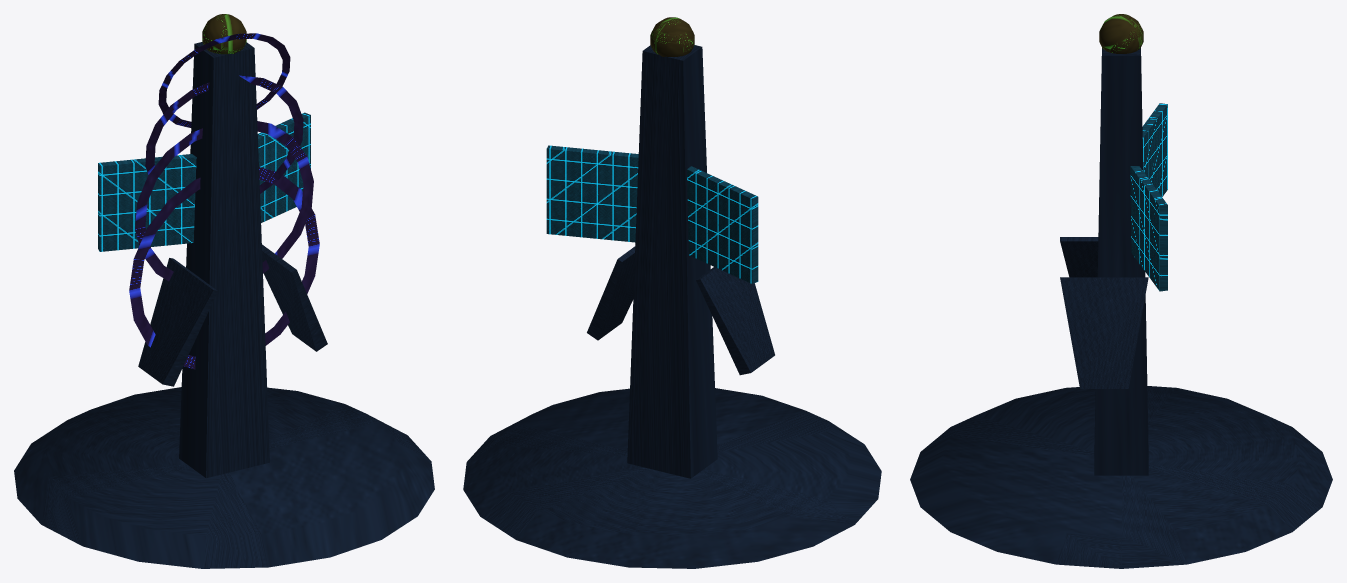
Rendered from command-horizon-wayfinding-lod0-textured.glb.
3 renders of one model, left to right at view 1: azimuth 30°, elevation 25°; view 2: azimuth 150°, elevation 25°; view 3: azimuth 270°, elevation 25°, orthographic.
Parts seen in each view (by area): view 1: wayfinding-base, wayfinding-spine, wayfinding-panel--1, wayfinding-wing--1, wayfinding-ring-0, wayfinding-ring-1, wayfinding-wing-1, wayfinding-panel-1, wayfinding-ring-2, wayfinding-ring-3, wayfinding-beacon; view 2: wayfinding-base, wayfinding-spine, wayfinding-panel-1, wayfinding-panel--1, wayfinding-wing--1, wayfinding-wing-1, wayfinding-beacon; view 3: wayfinding-base, wayfinding-spine, wayfinding-wing-1, wayfinding-panel-1, wayfinding-panel--1, wayfinding-beacon, wayfinding-wing--1.
Boxes of the visible parts, <box> form: wayfinding-base: <box>14,387,434,568</box>; wayfinding-spine: <box>179,42,269,478</box>; wayfinding-panel--1: <box>98,154,196,251</box>; wayfinding-wing--1: <box>138,258,217,386</box>; wayfinding-ring-0: <box>129,167,319,369</box>; wayfinding-ring-1: <box>135,121,313,281</box>; wayfinding-wing-1: <box>262,244,327,351</box>; wayfinding-panel-1: <box>257,112,310,222</box>; wayfinding-ring-2: <box>145,75,303,193</box>; wayfinding-ring-3: <box>158,33,290,127</box>; wayfinding-beacon: <box>202,14,246,54</box>; wayfinding-base: <box>463,388,881,568</box>; wayfinding-spine: <box>627,45,717,478</box>; wayfinding-panel-1: <box>546,145,638,242</box>; wayfinding-panel--1: <box>687,166,758,283</box>; wayfinding-wing--1: <box>696,267,774,375</box>; wayfinding-wing-1: <box>587,246,635,340</box>; wayfinding-beacon: <box>650,17,694,56</box>; wayfinding-base: <box>910,386,1332,568</box>; wayfinding-spine: <box>1094,48,1148,475</box>; wayfinding-wing-1: <box>1060,277,1148,388</box>; wayfinding-panel-1: <box>1130,166,1167,291</box>; wayfinding-panel--1: <box>1142,103,1167,196</box>; wayfinding-beacon: <box>1099,14,1143,53</box>; wayfinding-wing--1: <box>1060,237,1098,277</box>.
Bounding box in the file's own units: 2.96 × 3.58 × 2.96.
4 materials, 4 textured.
